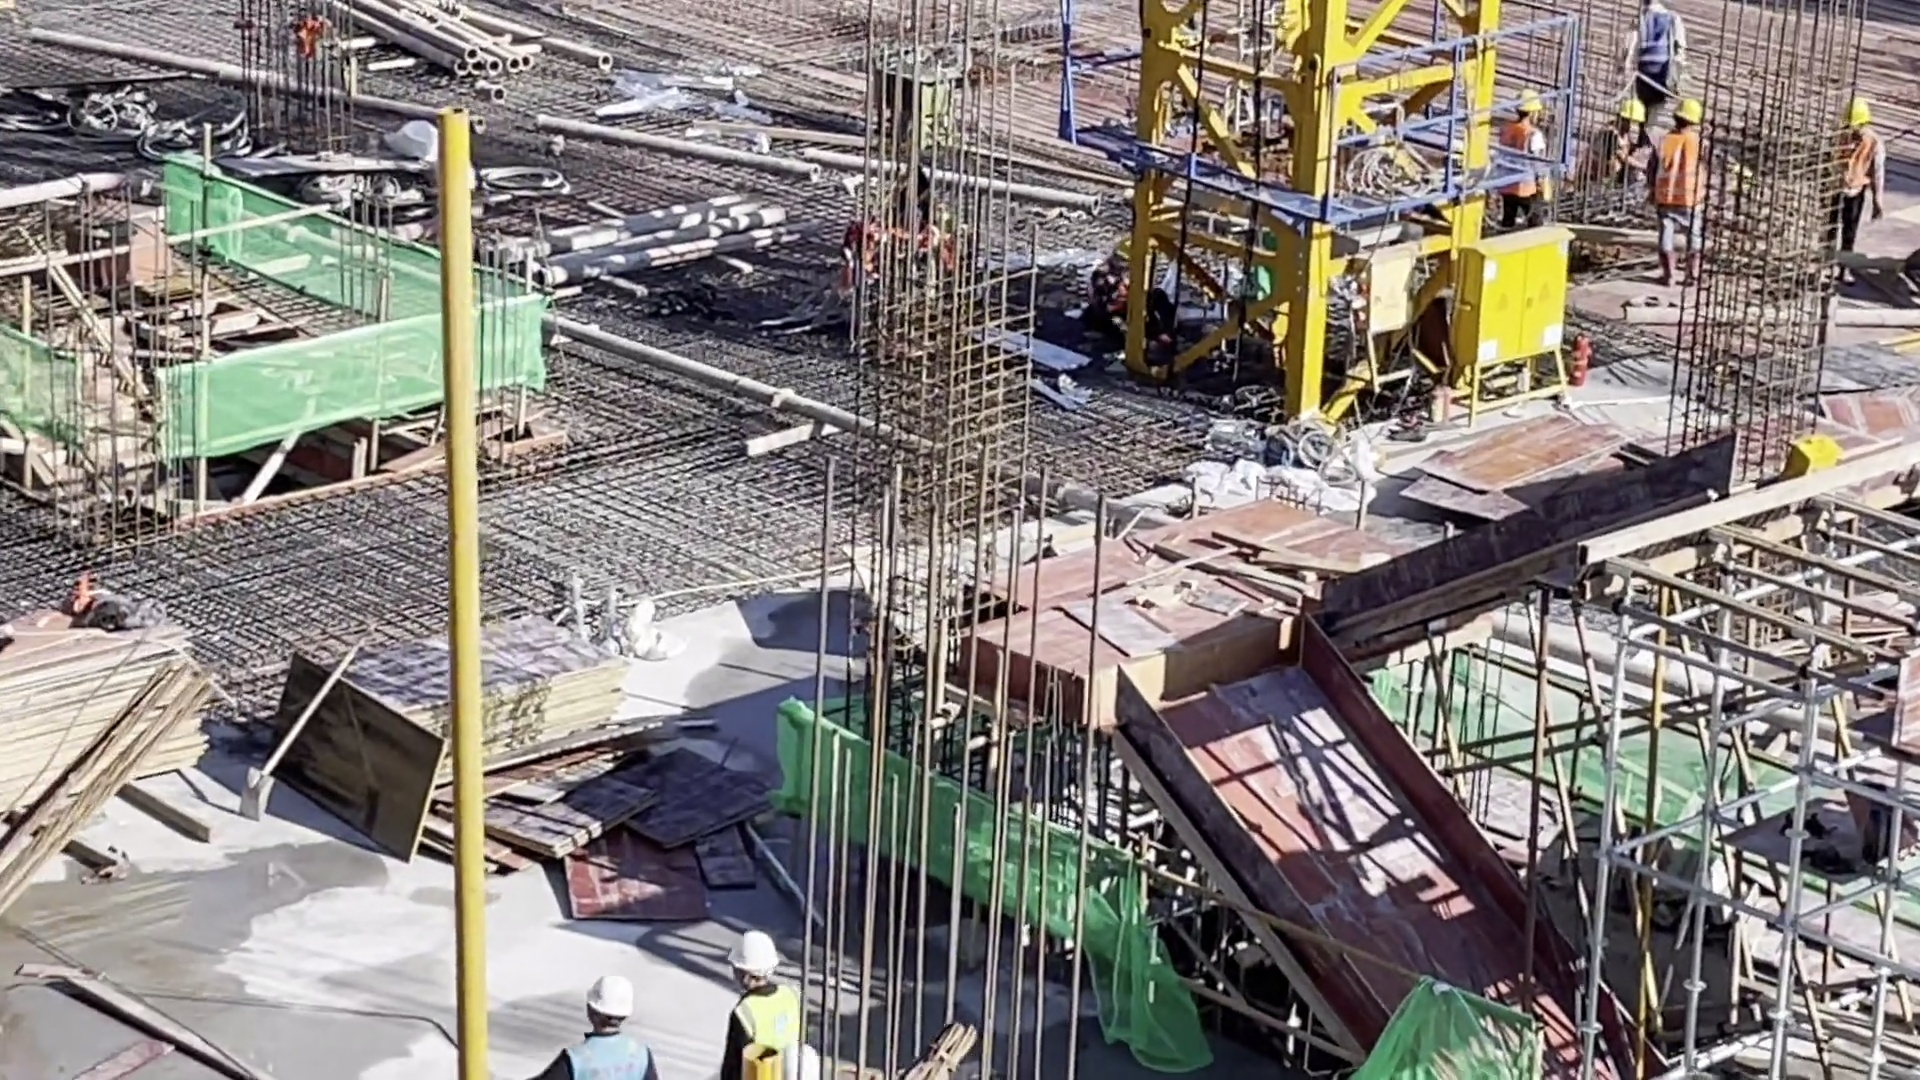board: (1023, 534, 1291, 727), (337, 611, 619, 785), (1, 588, 192, 818)
ebox: (1430, 220, 1586, 430), (1344, 241, 1426, 397)
helmet: (730, 929, 777, 974), (587, 973, 634, 1016), (785, 1043, 820, 1080)
person: (530, 971, 662, 1080), (723, 931, 808, 1080), (1646, 96, 1711, 288), (1826, 96, 1885, 286), (1497, 88, 1552, 228), (1573, 97, 1647, 194), (1638, 1, 1688, 113)
vest: (736, 982, 801, 1044), (567, 1033, 650, 1080), (1655, 132, 1707, 203), (1500, 121, 1537, 198), (1831, 130, 1873, 195), (1637, 11, 1675, 78)
